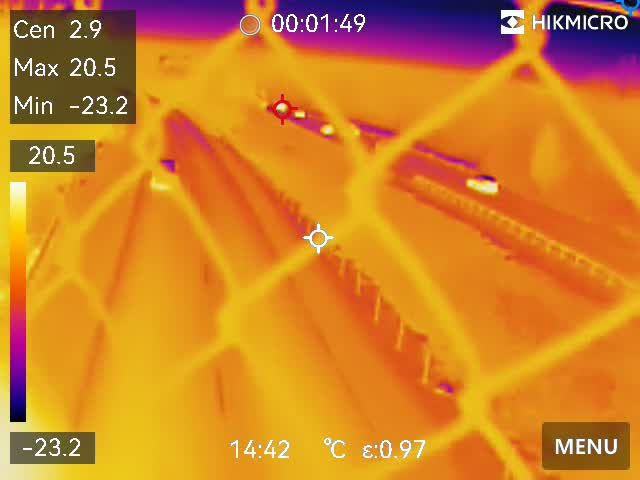vehicle: (459, 174, 504, 194), (153, 157, 178, 193)
